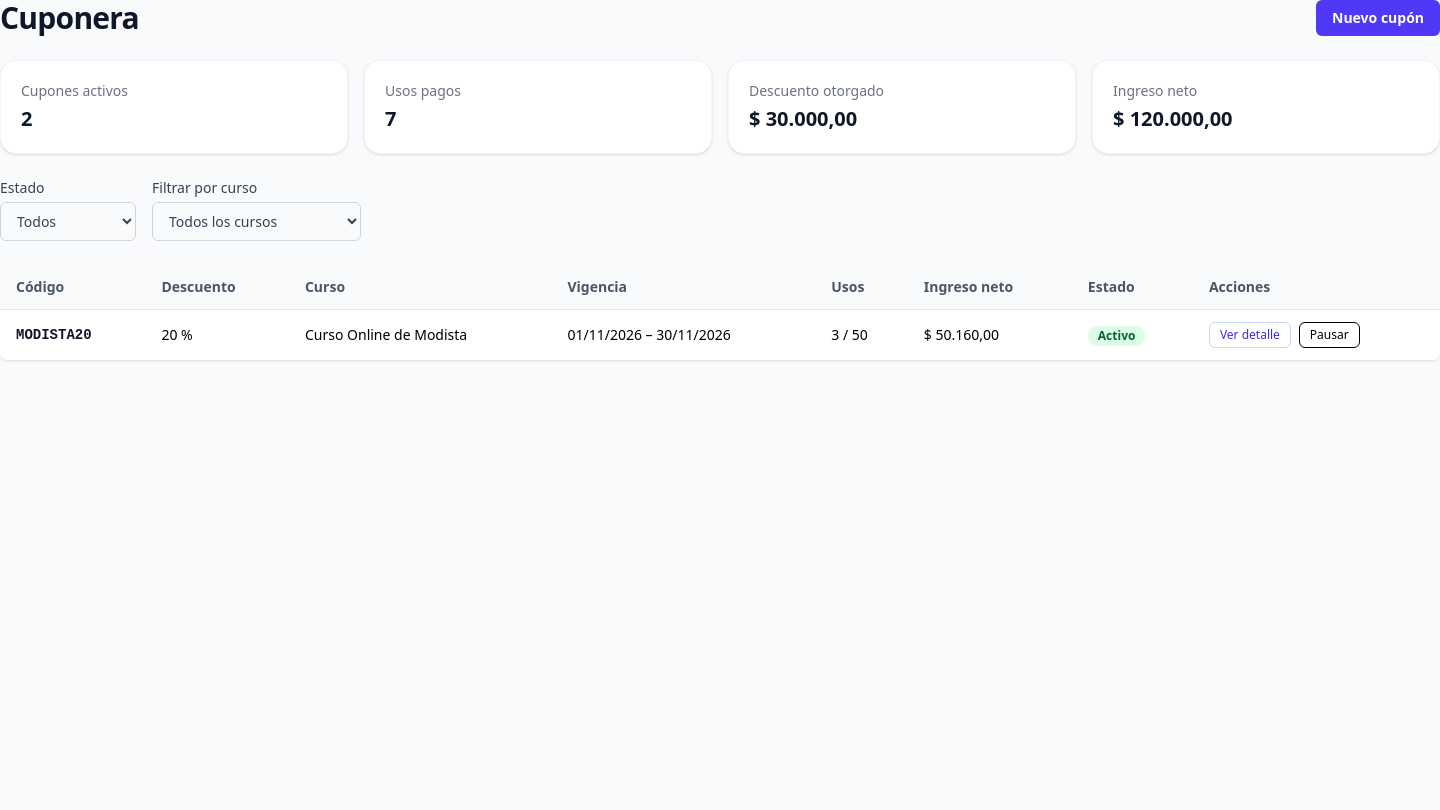
Scenario: CouponsPage › new coupon › keeps the form open and shows the server message when the code already exists
Expected: the text "MODISTA20" is shown, x1=0 y1=310 x2=145 y2=360
Click the button "Nuevo cupón" at (1378, 18), box x1=1316 y1=0 x2=1439 y2=36
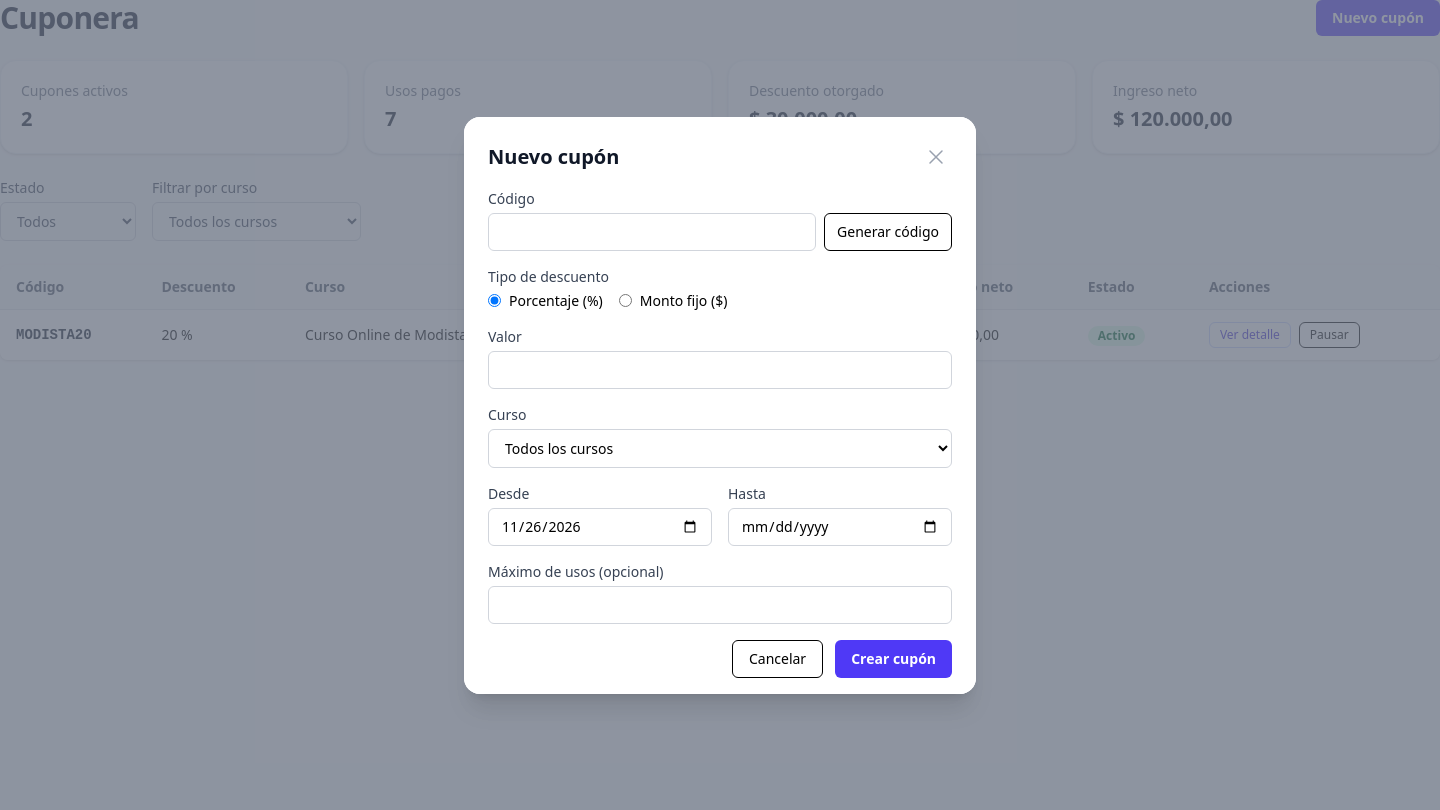
Type "verano15" into the field labelled "Código" at (652, 232), box x1=488 y1=212 x2=816 y2=250
Type "15" into the field labelled "Valor" at (720, 370), box x1=488 y1=350 x2=952 y2=388
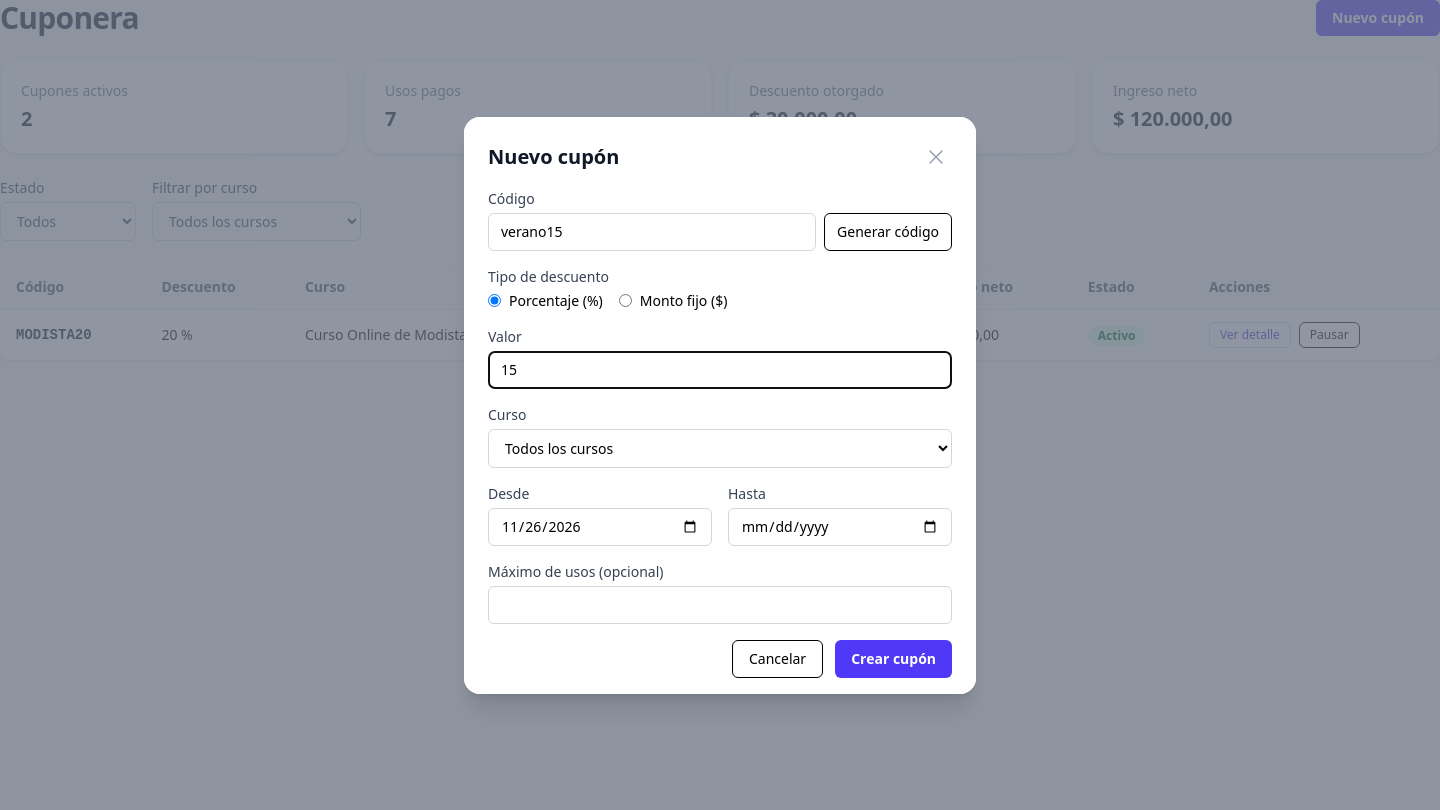
Select "Curso Online de Modista" in the dropdown labelled "Curso" at (720, 448), box x1=488 y1=428 x2=952 y2=468
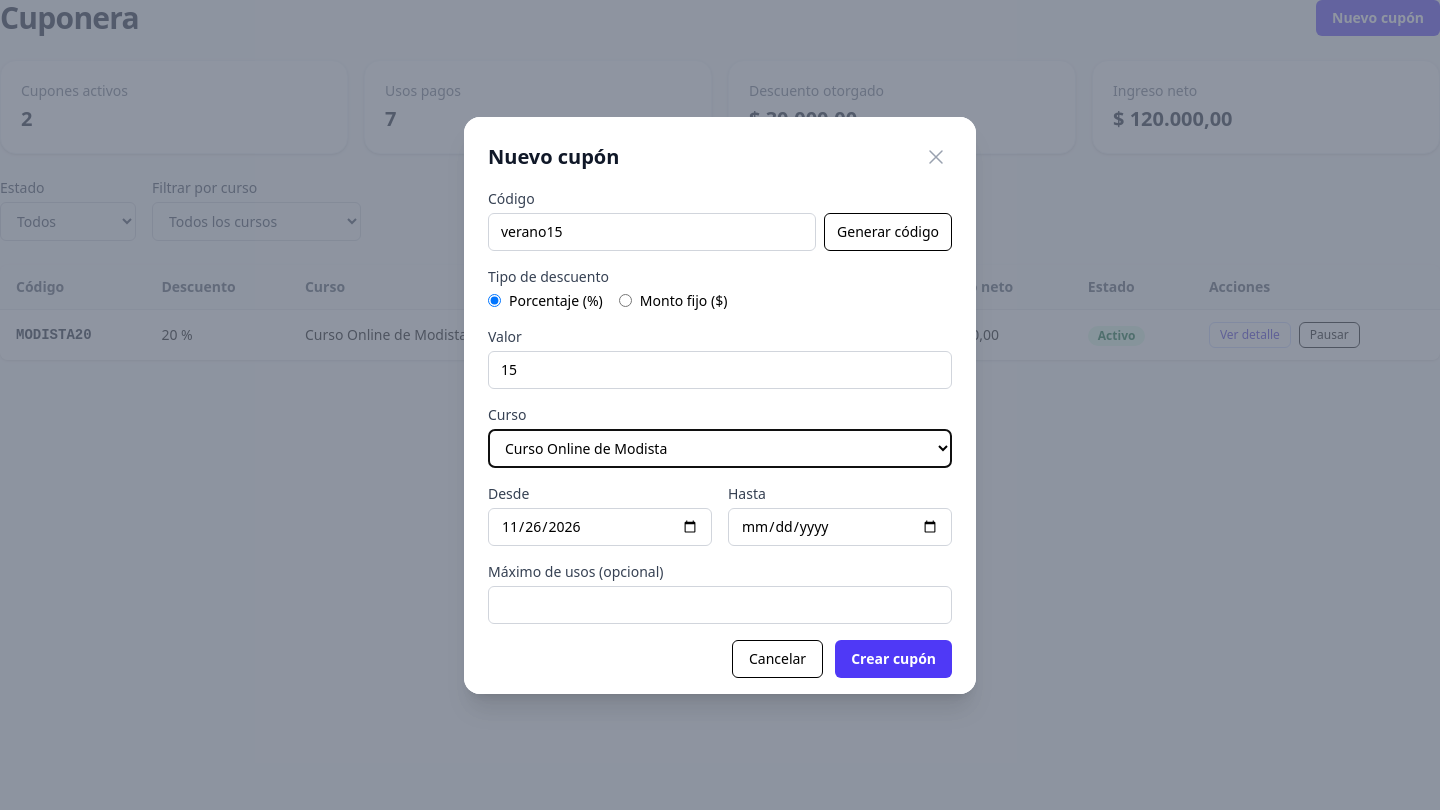
Type "2026-12-01" into the date field labelled "Desde" at (600, 526), box x1=488 y1=508 x2=712 y2=546
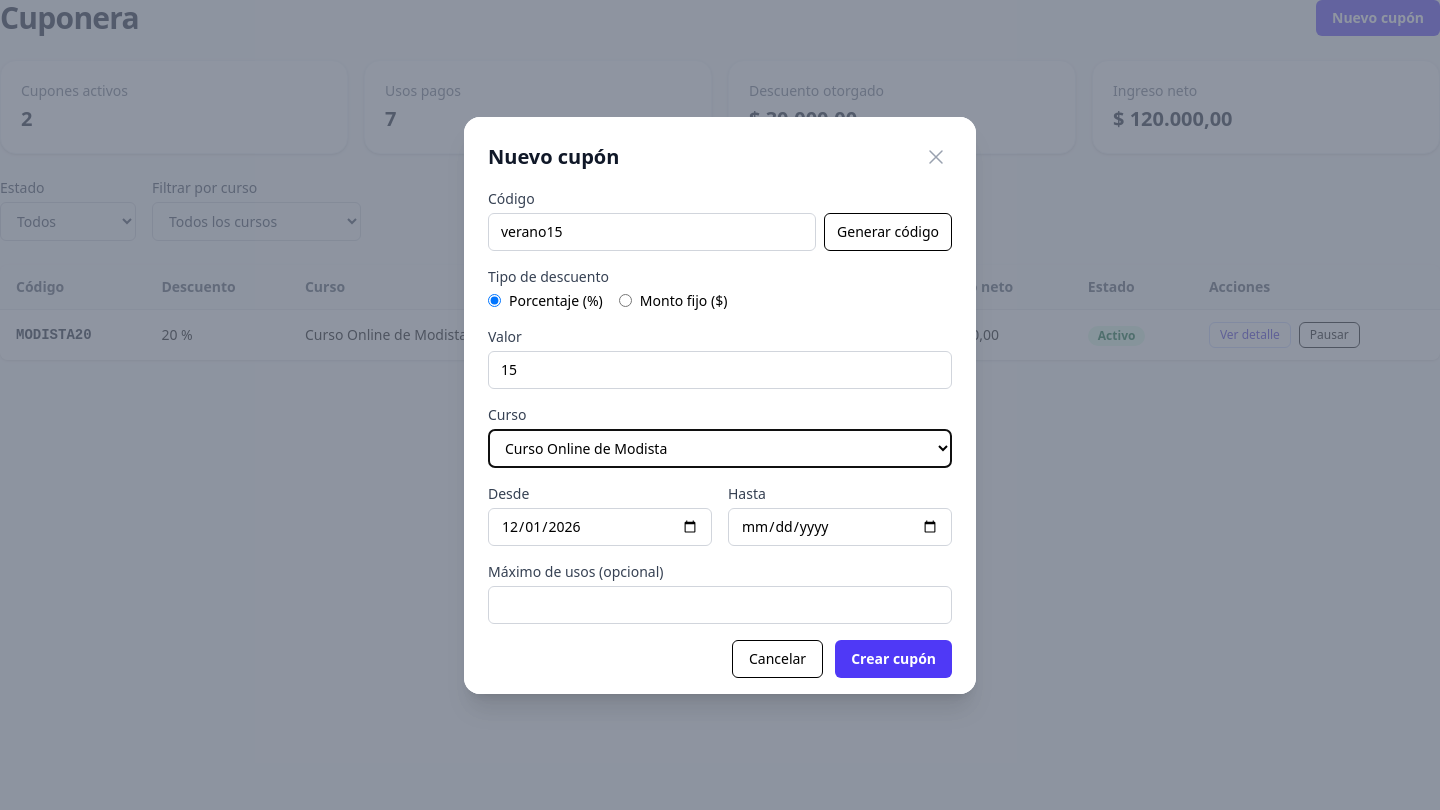
Type "2026-12-31" into the date field labelled "Hasta" at (840, 526), box x1=728 y1=508 x2=952 y2=546
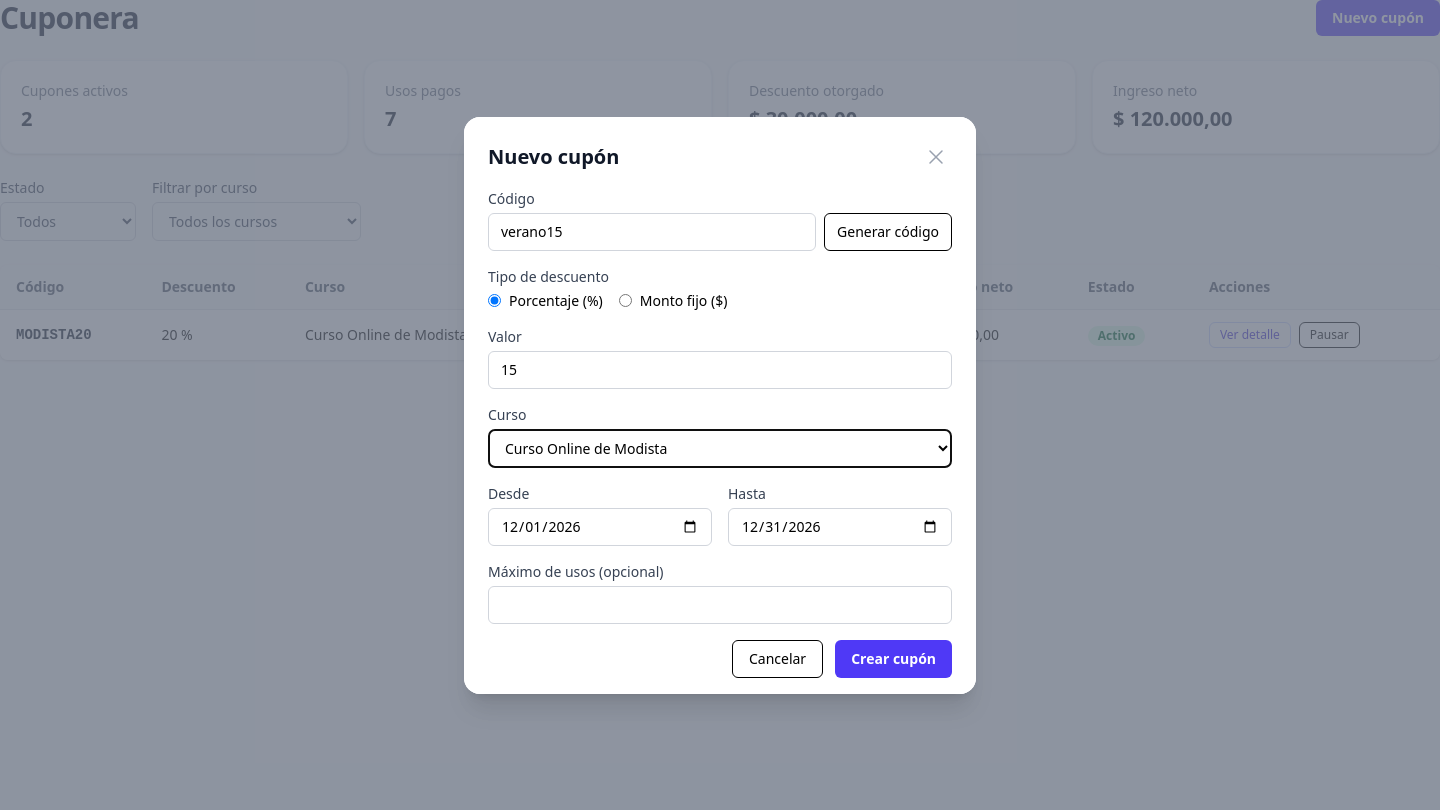
Click the button "Crear cupón" at (894, 658), box x1=835 y1=640 x2=952 y2=678
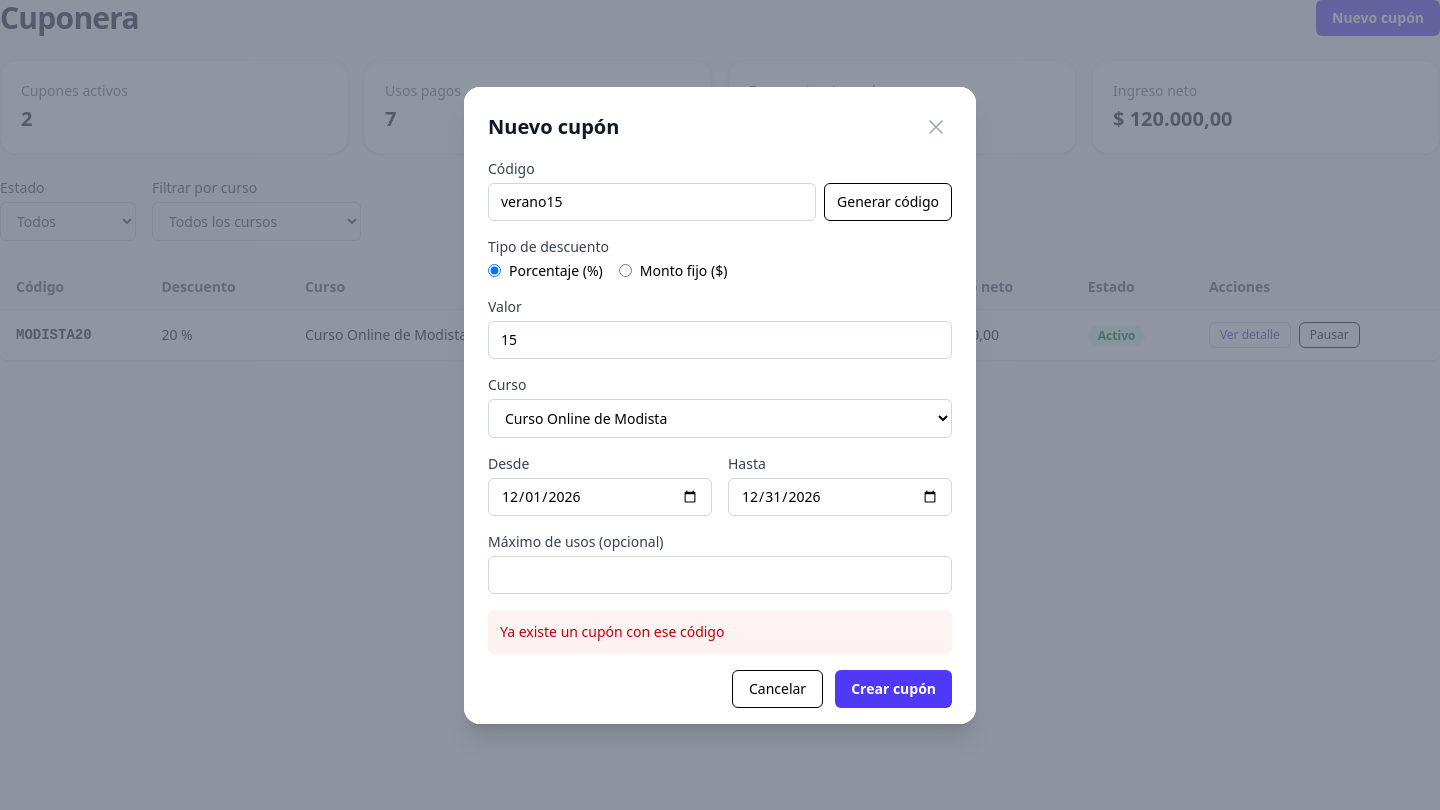
Expected: the text "Ya existe un cupón con ese código" is shown, x1=488 y1=610 x2=952 y2=654
